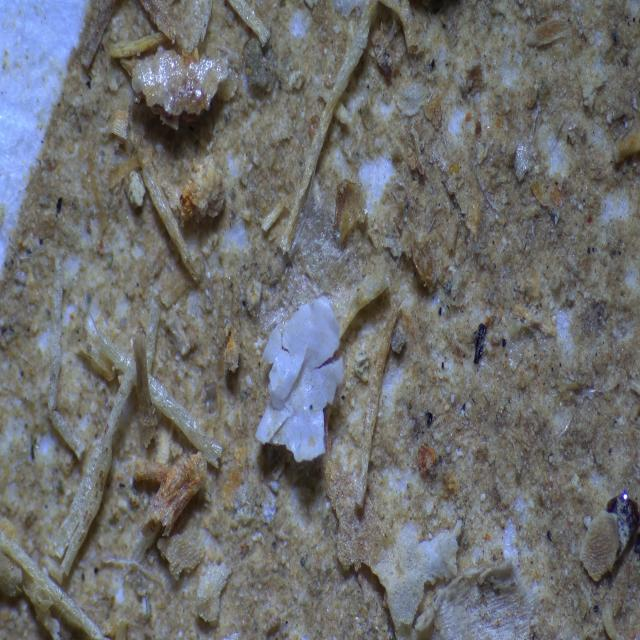microplastic: (247, 283, 360, 478)
